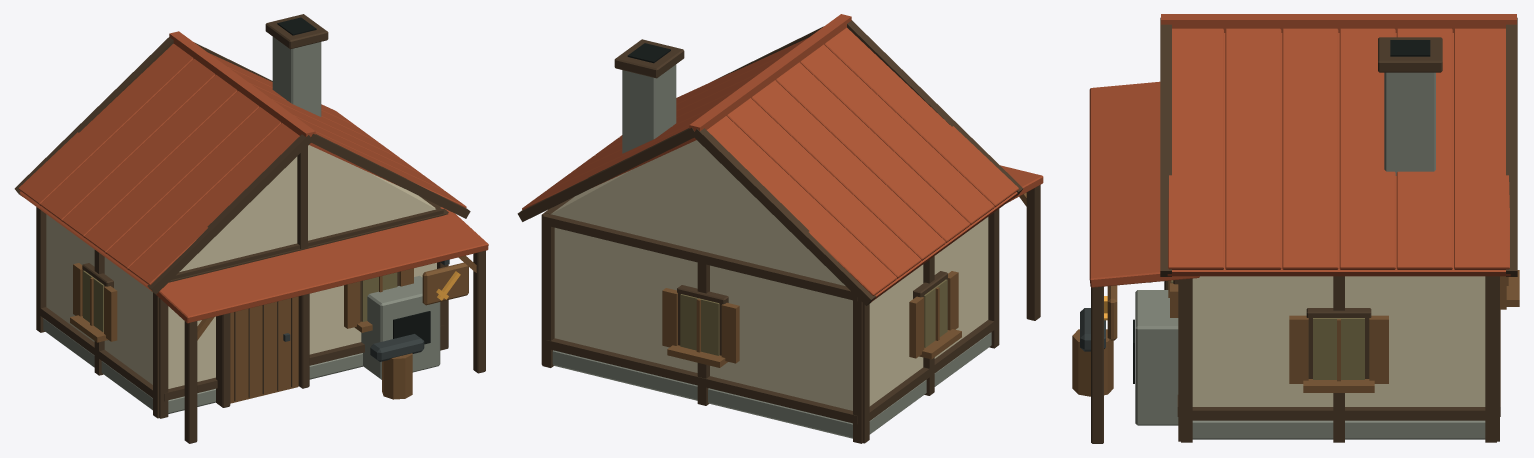
File: weapon_shop.glb
3 views of the same model, side by side, from view 1: azimuth 30°, elevation 25°; view 2: azimuth 150°, elevation 25°; view 3: azimuth 270°, elevation 25° (orthographic). The views are drawn at different scales.
Parts seen in each view (by area): view 1: weapon_shop; view 2: weapon_shop; view 3: weapon_shop.
Part boxes in pixels (bbox=[...]): weapon_shop: bbox=[14, 14, 488, 443]; weapon_shop: bbox=[517, 14, 1043, 443]; weapon_shop: bbox=[1072, 14, 1519, 443].
Bounding box in the file's own units: 7.4 × 6.05 × 6.91.
